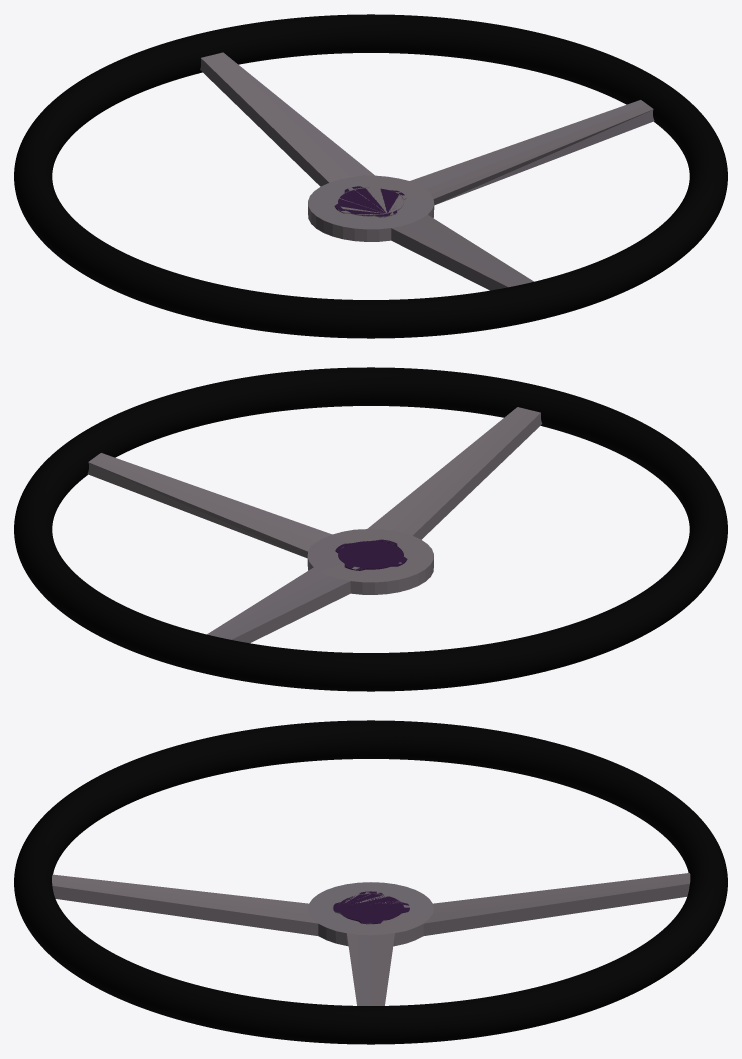
Rendered from steeringwheel.fbx.
3 renders of one model, top to bottom at view 1: azimuth 30°, elevation 25°; view 2: azimuth 150°, elevation 25°; view 3: azimuth 270°, elevation 25°, orthographic.
Parts seen in each view (by area): view 1: Torus.001, Cylinder, Cylinder.001; view 2: Torus.001, Cylinder, Cylinder.001; view 3: Torus.001, Cylinder, Cylinder.001.
Boxes of the visible parts, bbox=[...] form: Torus.001: bbox=[14, 14, 727, 338]; Cylinder: bbox=[200, 52, 654, 290]; Cylinder.001: bbox=[334, 186, 404, 217]; Torus.001: bbox=[14, 367, 727, 691]; Cylinder: bbox=[87, 407, 542, 643]; Cylinder.001: bbox=[335, 539, 407, 570]; Torus.001: bbox=[14, 720, 727, 1044]; Cylinder: bbox=[52, 873, 690, 1005]; Cylinder.001: bbox=[333, 891, 409, 924].
Size of the model in its own units: 145 by 12.64 by 145.
